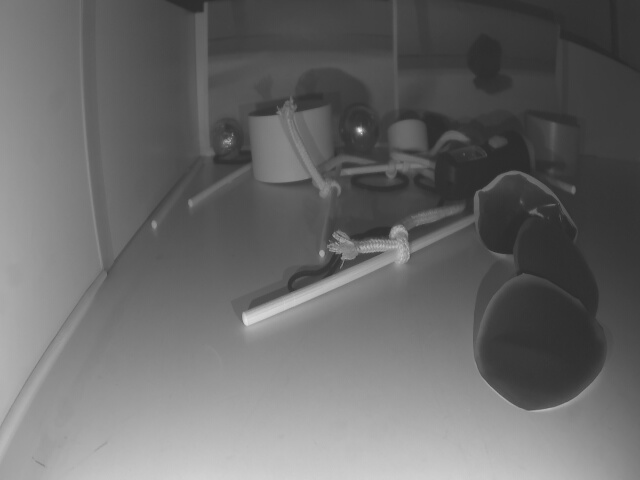Dead: (340, 106, 378, 149), (212, 121, 244, 162)
